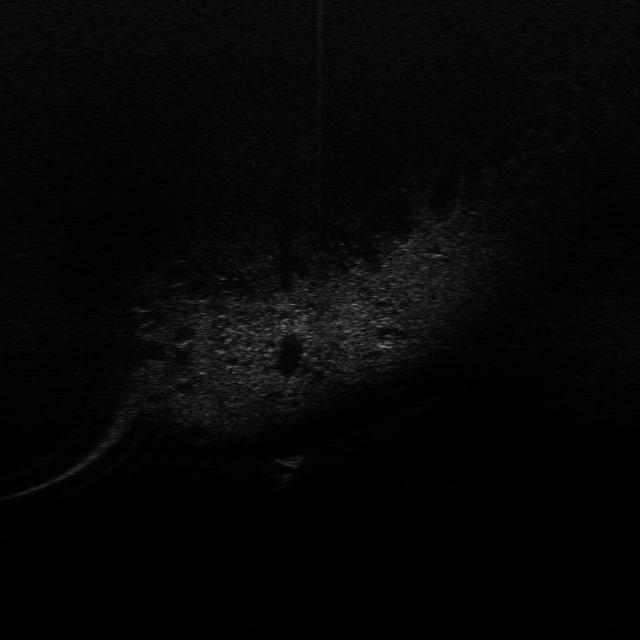cube: (272, 451, 307, 470)
cylinder: (278, 471, 296, 490)
